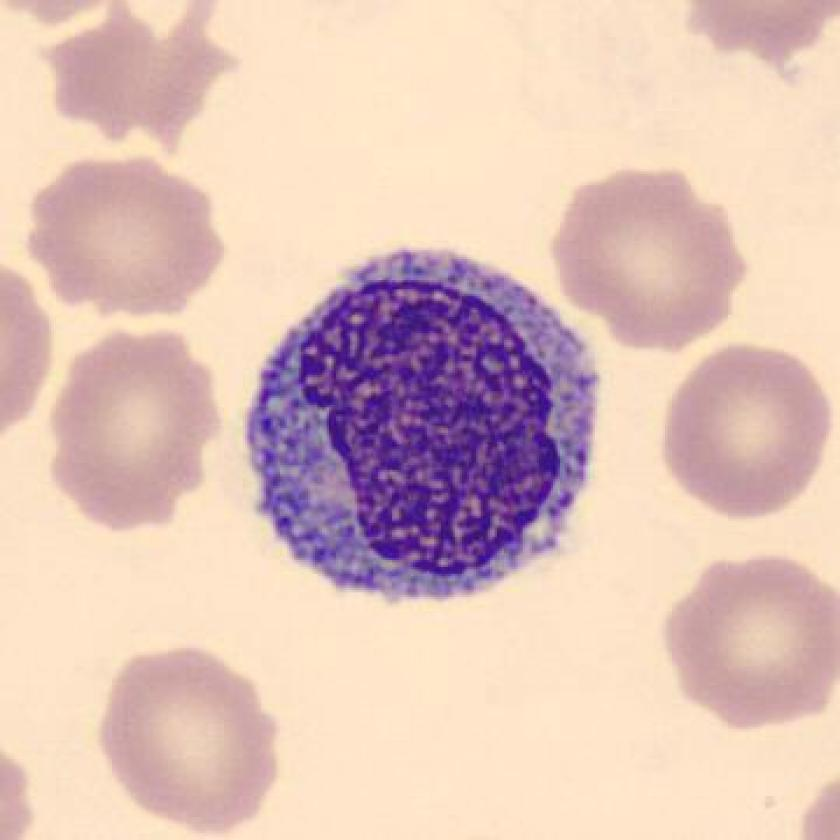monocyte: (225, 228, 619, 628)
